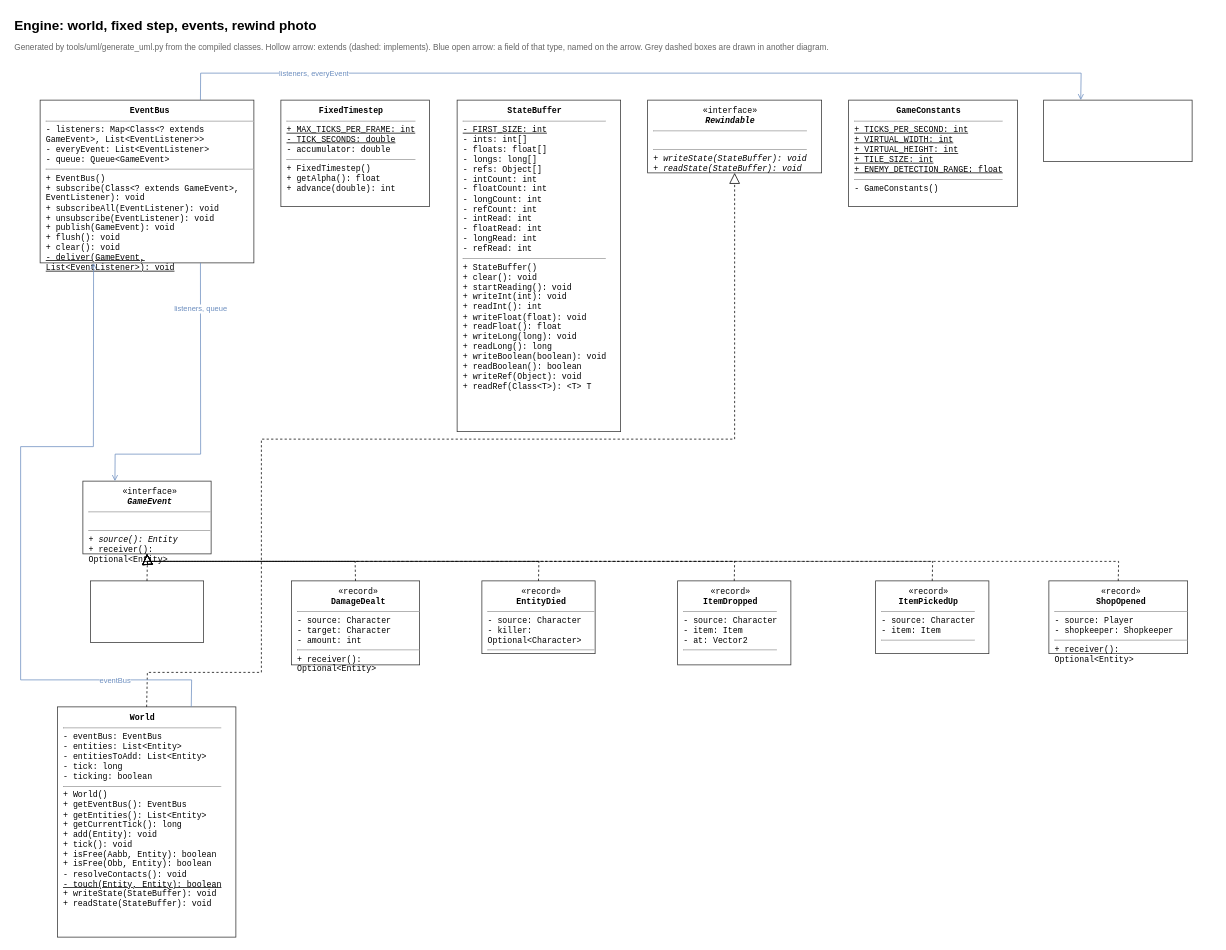
Some shapes in this 1226 by 950 pixel diagram are drawn without their labels. Each missing label, with the centre of its shape:
"«interface» EventListener + onEvent(GameEvent): void" goes at point 1117,130.
"«record» AttackStarted - source: Character" goes at point 147,611.
